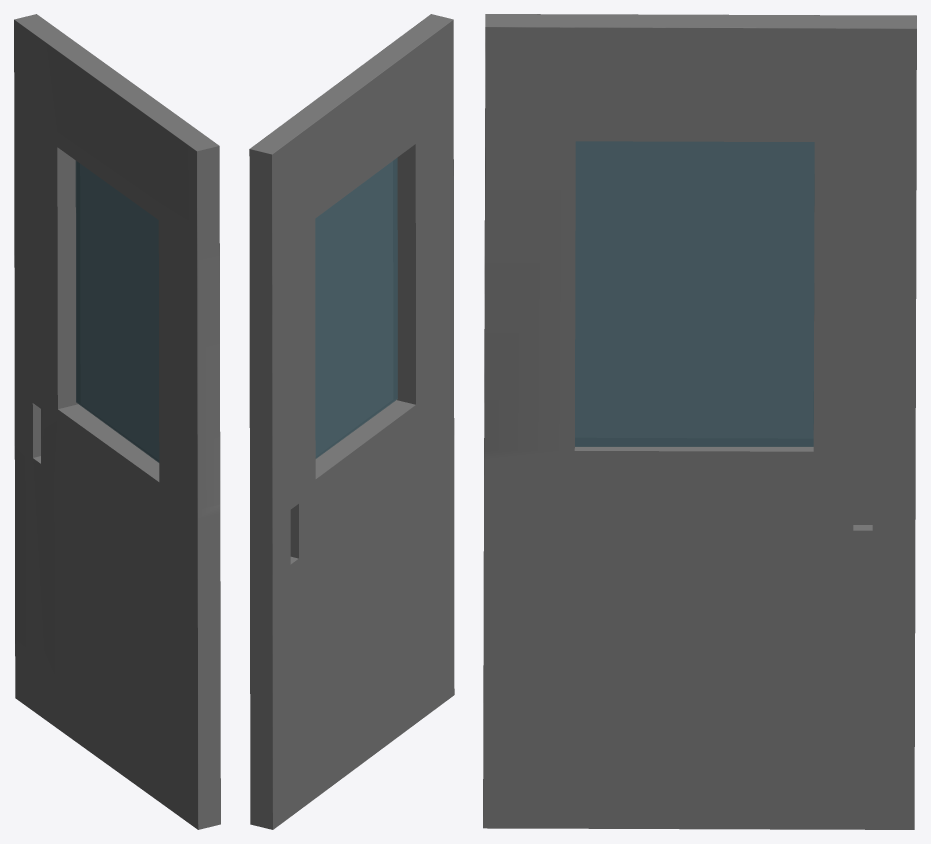
File: DoorSchoolF.fbx
3 renders of one model, left to right at view 1: azimuth 30°, elevation 25°; view 2: azimuth 150°, elevation 25°; view 3: azimuth 270°, elevation 25°, orthographic. The views are drawn at different scales.
Parts seen in each view (by area): view 1: DoorSchoolF; view 2: DoorSchoolF; view 3: DoorSchoolF.
Boxes of the visible parts, bbox=[...] form: DoorSchoolF: bbox=[14, 14, 220, 829]; DoorSchoolF: bbox=[249, 14, 454, 829]; DoorSchoolF: bbox=[483, 14, 916, 829].
Bounding box in the file's own units: 7.45 × 207 × 101.
